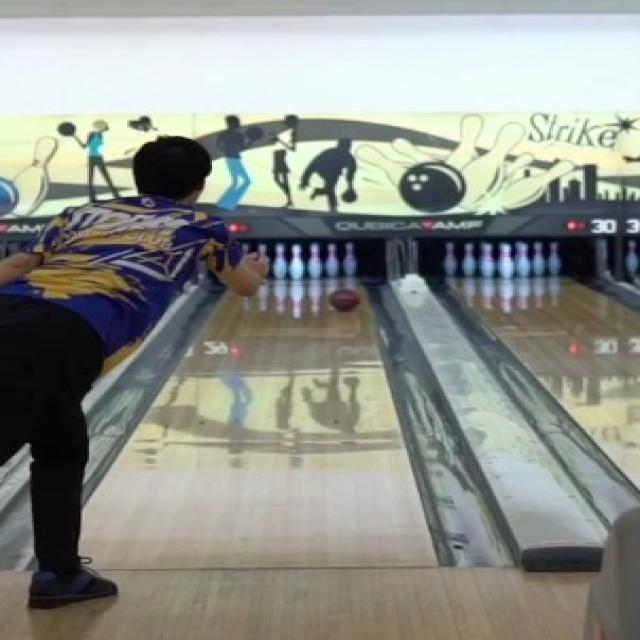alley: (85, 280, 434, 567)
balls: (328, 288, 360, 312)
bottle: (266, 241, 363, 278)
